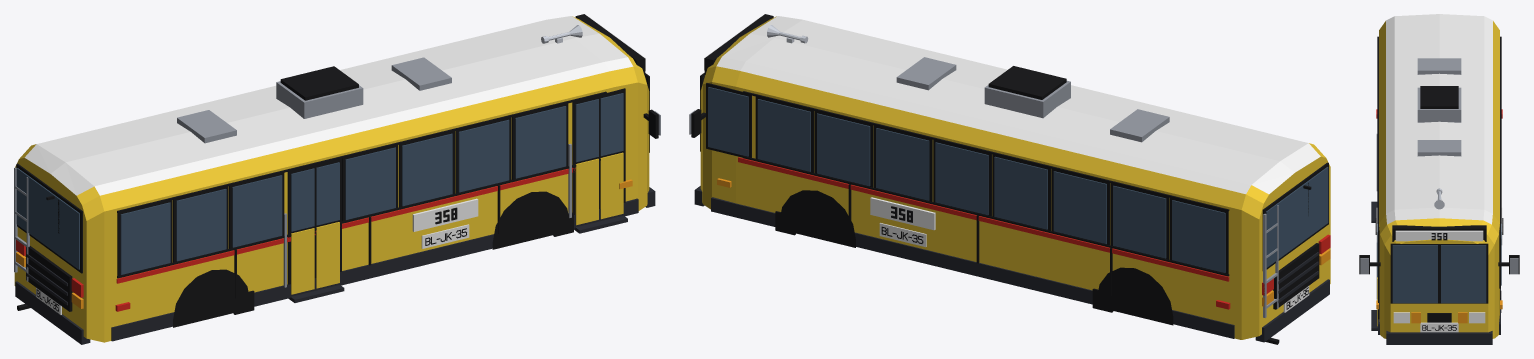
File: micro_amarilla_body.obj
3 views of the same model, side by side, from view 1: azimuth 30°, elevation 25°; view 2: azimuth 150°, elevation 25°; view 3: azimuth 270°, elevation 25° (orthographic). The views are drawn at different scales.
Parts seen in each view (by area): view 1: micro_amarilla_body; view 2: micro_amarilla_body; view 3: micro_amarilla_body.
Boxes of the visible parts, bbox=[...] form: micro_amarilla_body: bbox=[14, 14, 660, 344]; micro_amarilla_body: bbox=[689, 14, 1330, 344]; micro_amarilla_body: bbox=[1359, 14, 1519, 344].
Size of the model in its own units: 10.8 by 3.2 by 3.32.
